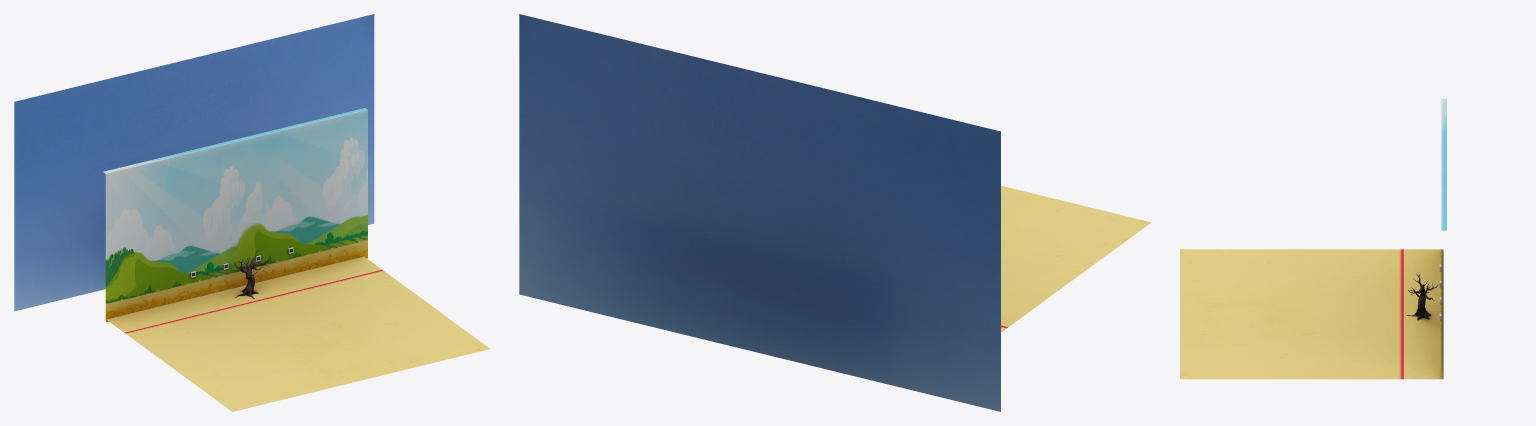
The model's file is map.FBX.
3 views of the same model, side by side, from view 1: azimuth 30°, elevation 25°; view 2: azimuth 150°, elevation 25°; view 3: azimuth 270°, elevation 25° (orthographic). The views are drawn at different scales.
Visible parts, largest first — view 1: Plane001; view 2: Plane001; view 3: Plane001.
Boxes of the visible parts, bbox=[...] form: Plane001: bbox=[14, 14, 489, 411]; Plane001: bbox=[519, 14, 1151, 411]; Plane001: bbox=[1180, 98, 1446, 379].
Bounding box in the file's own units: 214 × 119 × 170.
Materials: 1 (1 with a texture image).
